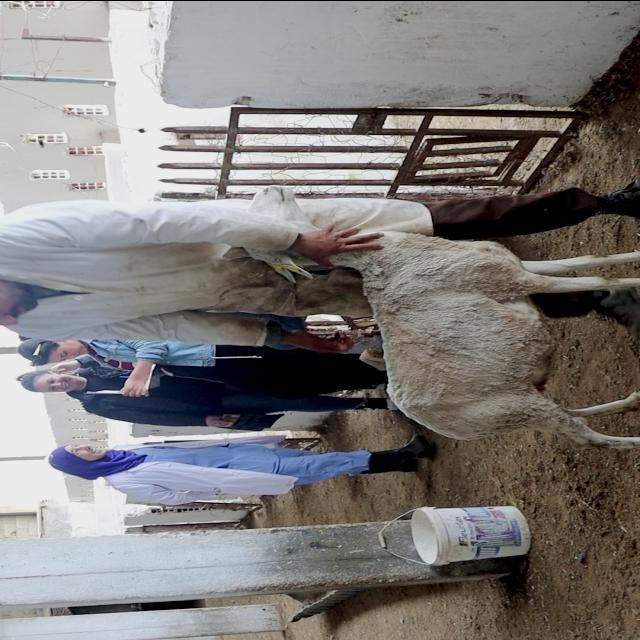Score_1: (330, 230, 639, 448)
